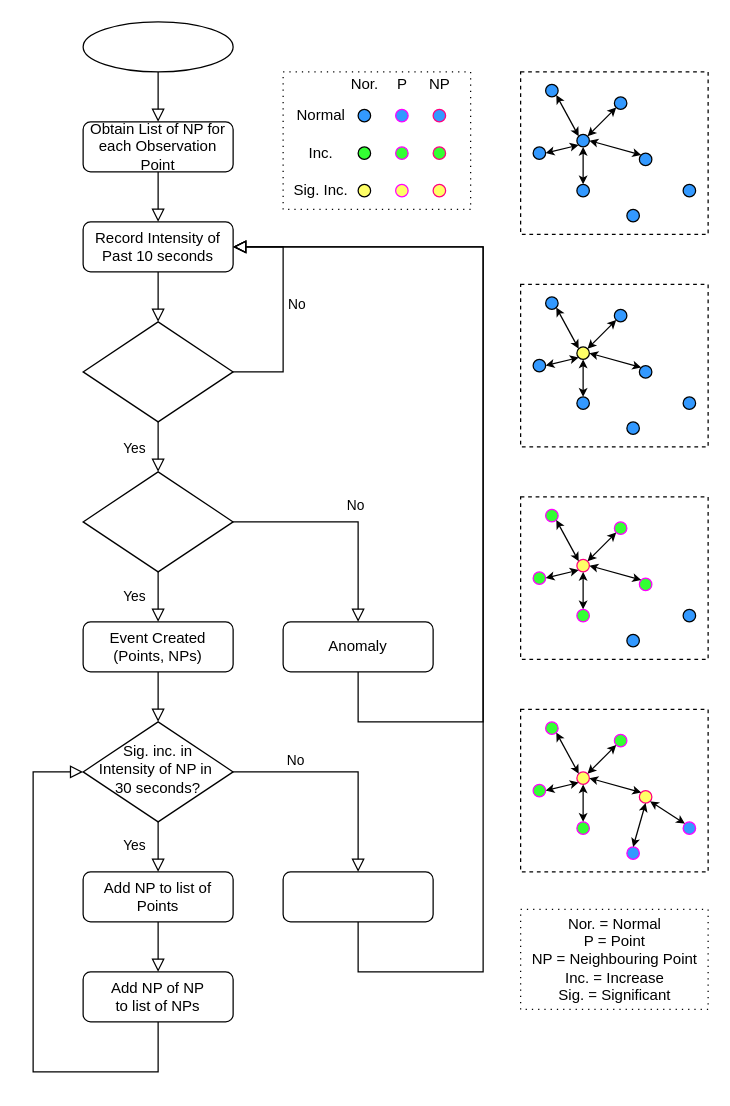
Some shapes in this 730 by 1106 pixel diagram are drawn without their labels. Here are the shapes that lost their labels. From the top down, the centre of each, then its label:
point 157,46: Start
point 157,371: Sig. inc. in Intensity in Past 10 seconds?
point 157,521: Inc. in Intensity for NPs?
point 357,896: Event Ended
